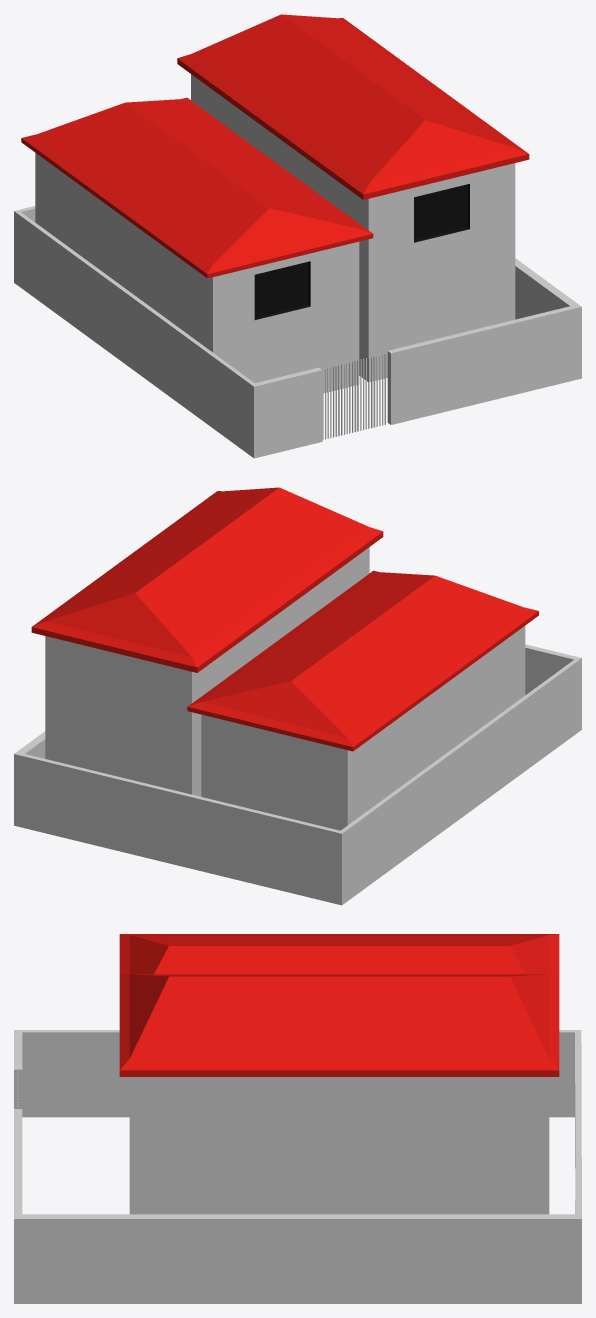
The model's file is casa_4.fbx.
The picture shows the model from 3 angles, top to bottom: view 1: azimuth 30°, elevation 25°; view 2: azimuth 150°, elevation 25°; view 3: azimuth 270°, elevation 25°; orthographic projection. The views are drawn at different scales.
Parts seen in each view (by area): view 1: Cube; view 2: Cube; view 3: Cube.
Part boxes in pixels (left/top/right/bottom): Cube: left=14, top=14, right=581, bottom=458; Cube: left=14, top=487, right=581, bottom=905; Cube: left=14, top=934, right=581, bottom=1303.
Size of the model in its own units: 1518 by 1023 by 1916.
